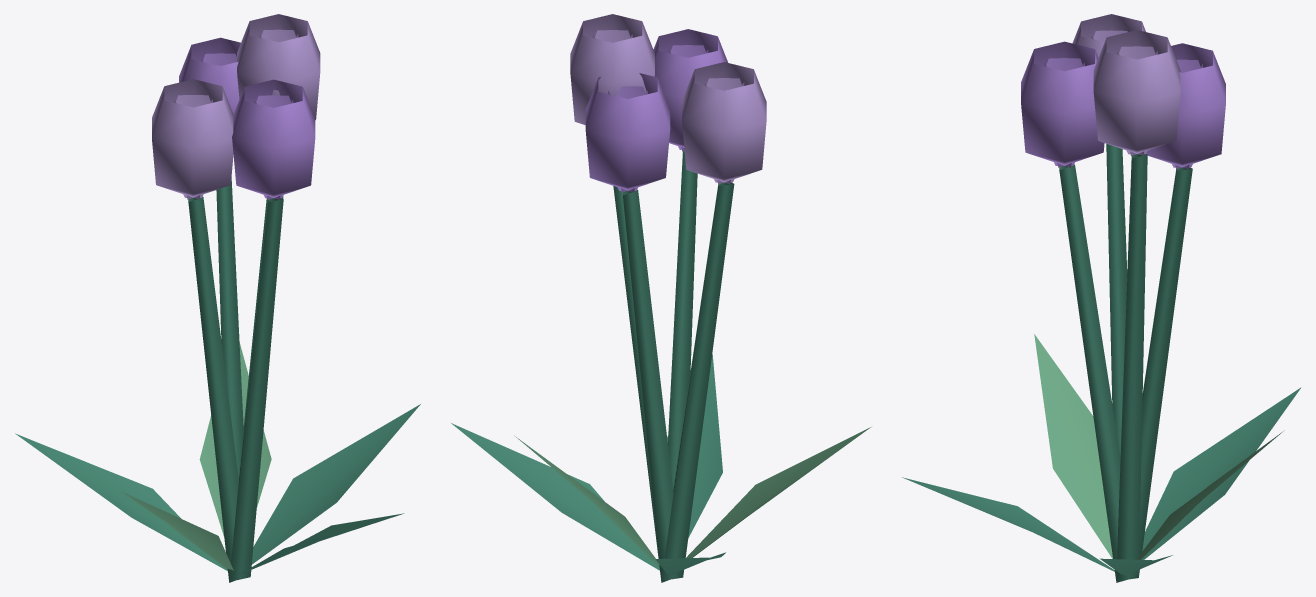
The model's file is crocus.glb.
3 renders of one model, left to right at view 1: azimuth 30°, elevation 25°; view 2: azimuth 150°, elevation 25°; view 3: azimuth 270°, elevation 25°, orthographic. The views are drawn at different scales.
Parts seen in each view (by area): view 1: crocus; view 2: crocus; view 3: crocus.
Boxes of the visible parts, x1=… form: crocus: x1=15, y1=14, x2=420, y2=582; crocus: x1=451, y1=14, x2=870, y2=582; crocus: x1=902, y1=14, x2=1301, y2=582.
Size of what is drawn, in the model's own units: 0.1406 by 0.2 by 0.1302.
